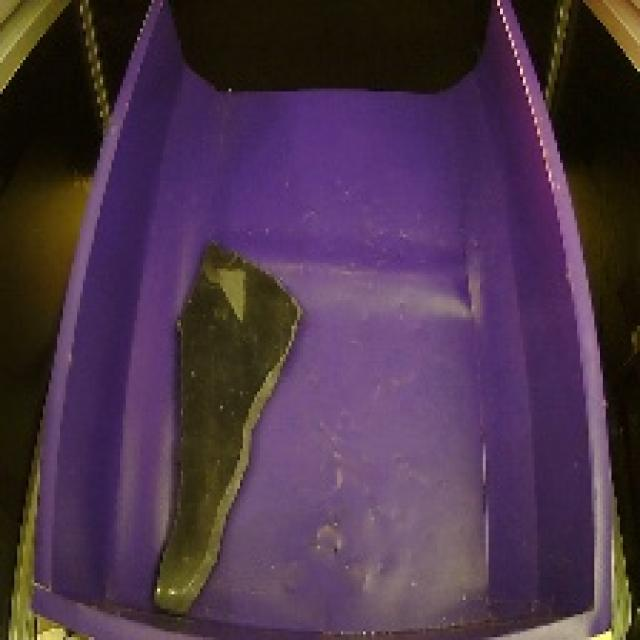china: (142, 227, 309, 615)
